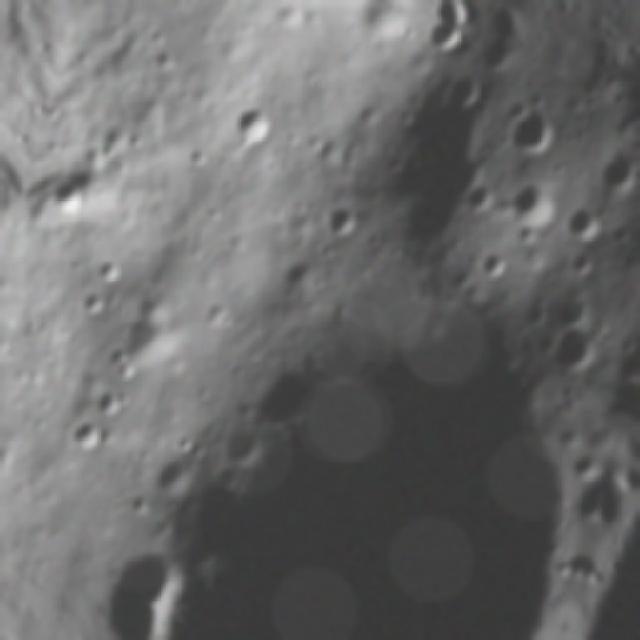crater: (140, 218, 614, 640), (103, 518, 197, 612), (528, 308, 609, 384), (498, 94, 571, 161), (502, 169, 564, 234), (430, 60, 493, 122), (220, 92, 282, 154), (407, 15, 465, 68), (63, 407, 114, 465), (594, 138, 640, 196), (563, 202, 608, 246)
